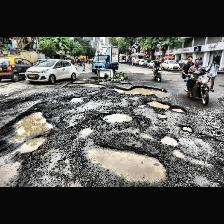pothole: (84, 144, 166, 184), (2, 110, 54, 153), (0, 155, 22, 186), (111, 84, 167, 96), (103, 112, 132, 124), (144, 99, 169, 109), (67, 82, 105, 88), (162, 136, 178, 146), (173, 150, 186, 158), (172, 105, 184, 113), (181, 125, 193, 133), (68, 96, 82, 102), (80, 128, 92, 134), (156, 114, 166, 119)
